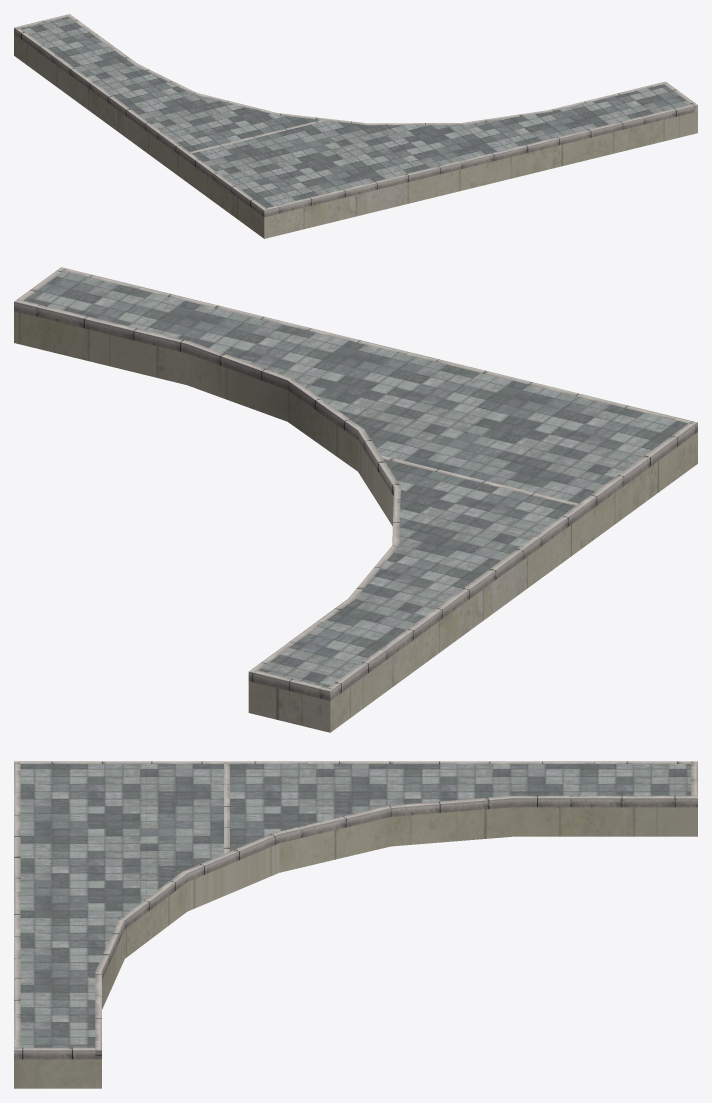
File: Building_site_c1_cvout.fbx
The picture shows the model from 3 angles, top to bottom: view 1: azimuth 30°, elevation 25°; view 2: azimuth 150°, elevation 25°; view 3: azimuth 270°, elevation 25°; orthographic projection. The views are drawn at different scales.
Parts seen in each view (by area): view 1: Building_site_c1_cvout; view 2: Building_site_c1_cvout; view 3: Building_site_c1_cvout.
Part boxes in pixels (x1,y1,x2,y2): Building_site_c1_cvout: (14, 14, 697, 238); Building_site_c1_cvout: (14, 267, 697, 732); Building_site_c1_cvout: (14, 761, 697, 1088).
Bounding box in the file's own units: 1050 × 65 × 1050.
